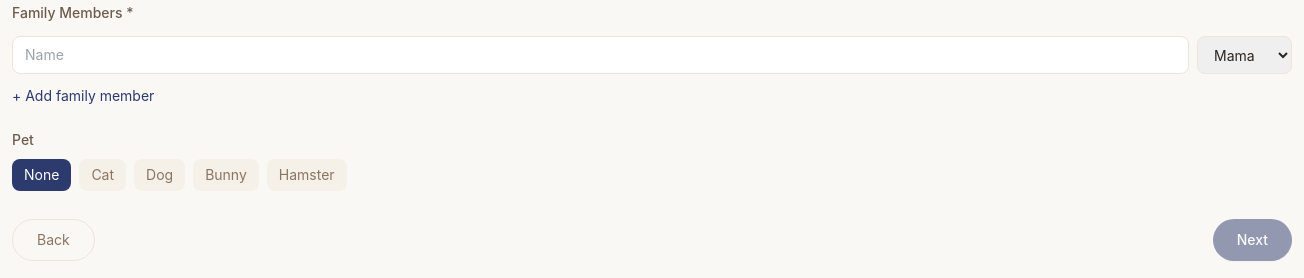
Scenario: FamilyStep › requires at least one named member
The image size is (1304, 278).
Expected: the button with test id "next-button" is disabled, [1213, 219, 1292, 261]
In the field with test id "member-name-0": (600, 55) [12, 36, 1189, 74], type "Mama"
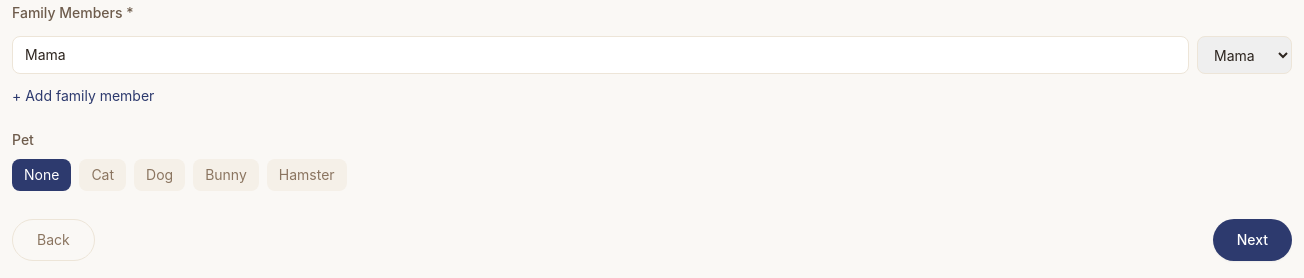
Now the button with test id "next-button" is enabled, box [1213, 219, 1292, 261]
